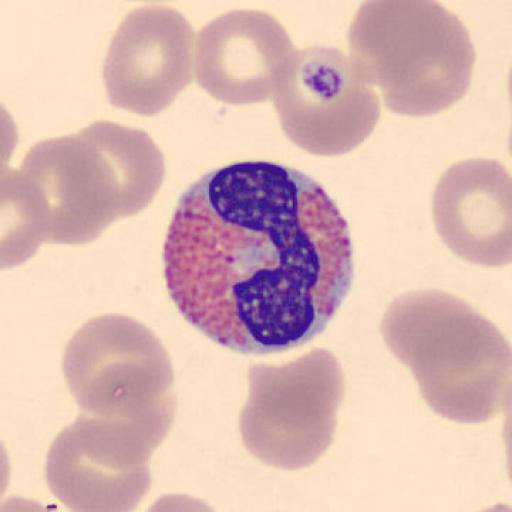RBC: (377, 286, 510, 425), (347, 0, 477, 118), (238, 346, 347, 472), (404, 301, 512, 425), (14, 129, 122, 246), (62, 310, 176, 418), (271, 52, 382, 158), (194, 6, 300, 108), (101, 3, 195, 118), (44, 416, 154, 512), (74, 360, 178, 460), (69, 119, 167, 220), (429, 154, 512, 270), (346, 0, 450, 92), (2, 169, 52, 270), (125, 491, 231, 512), (0, 492, 94, 512), (0, 98, 20, 171), (0, 492, 54, 512), (0, 428, 13, 507), (461, 499, 512, 512)
WBC: (162, 159, 357, 356)
